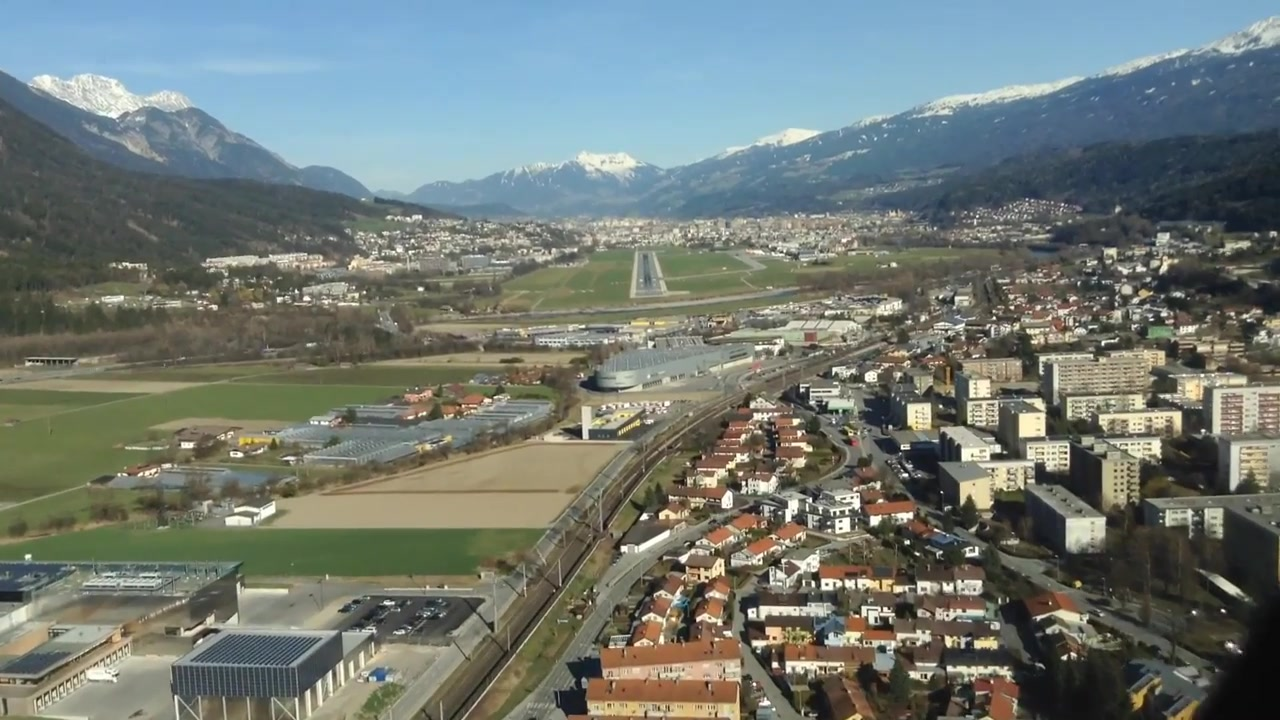runway: (633, 249, 663, 299)
